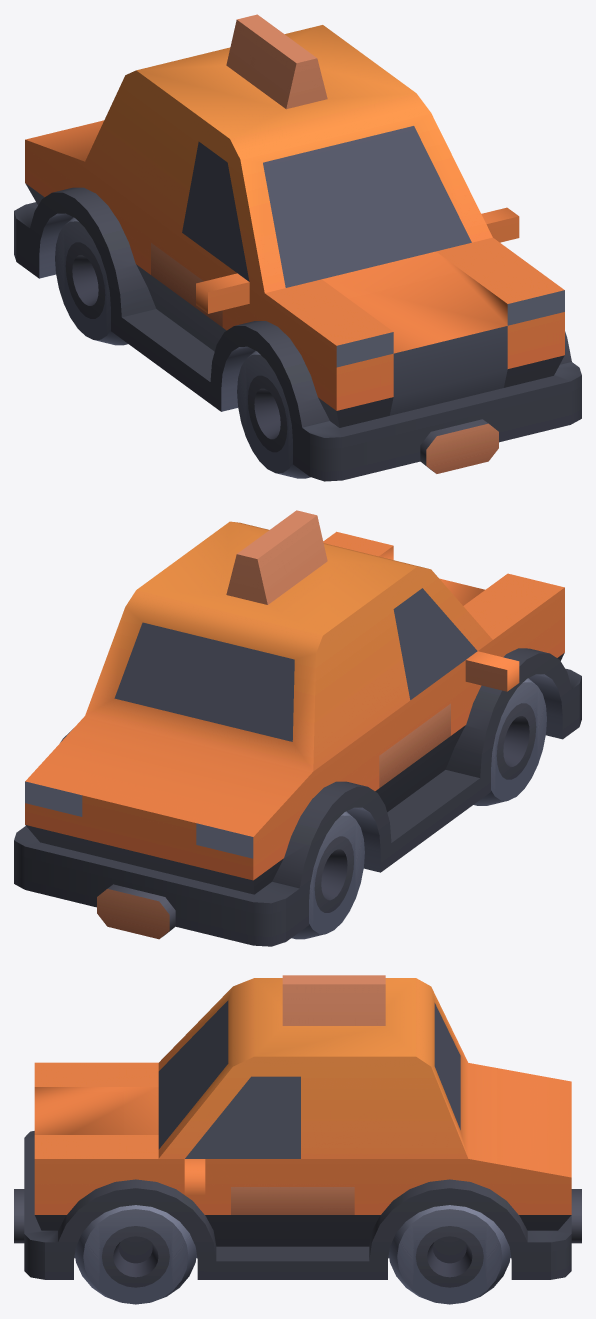
Rendered from taxi-transformed.glb.
The picture shows the model from 3 angles, top to bottom: view 1: azimuth 30°, elevation 25°; view 2: azimuth 150°, elevation 25°; view 3: azimuth 270°, elevation 25°; orthographic projection. The views are drawn at different scales.
Parts seen in each view (by area): view 1: wheel-front-right; view 2: wheel-front-right; view 3: wheel-front-right.
Boxes of the visible parts, x1,y1,x2,y2 form: wheel-front-right: [14, 14, 581, 481]; wheel-front-right: [14, 510, 581, 946]; wheel-front-right: [14, 975, 581, 1304].
Size of the model in its own units: 1.5 by 1.5 by 2.75.
1 material, 1 textured.
